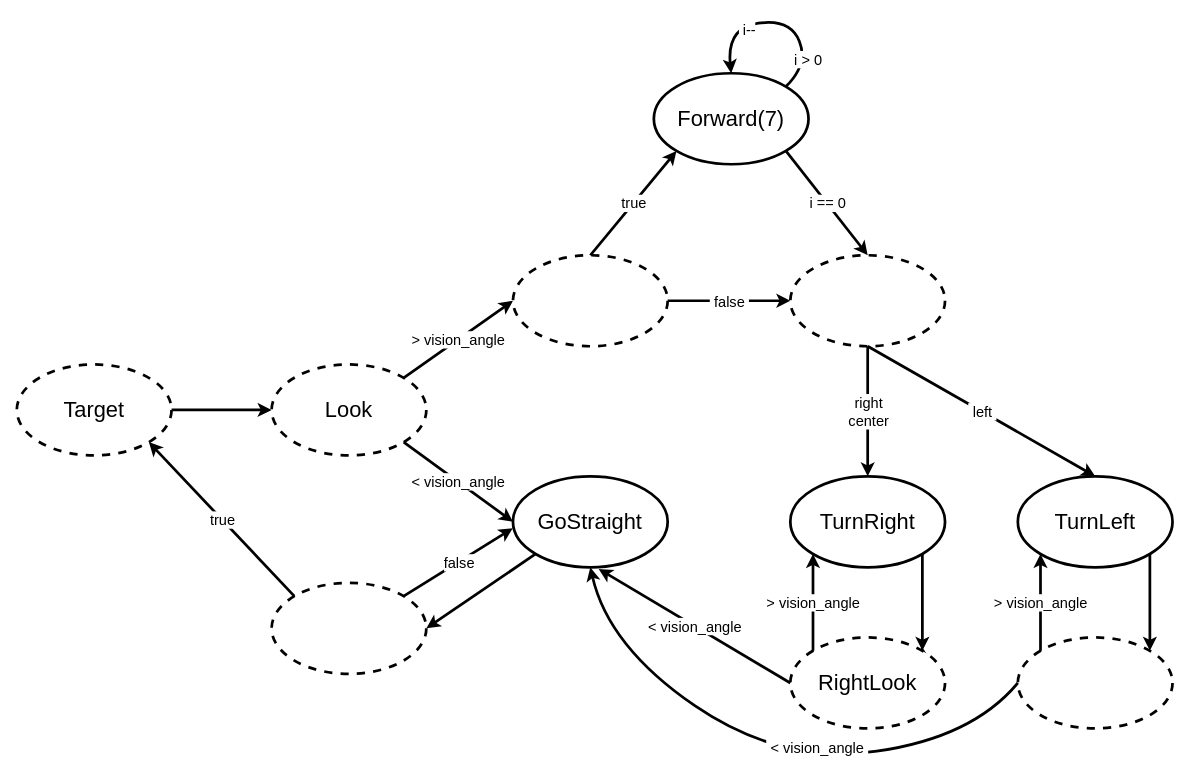
This 1189x777 diagram has some shape labels left out. Here are the shapes that lost their labels. From the top down, the centre of each, then its label:
At [590,300]: "Spiral".
At [867,300]: "Orient".
At [348,628]: "Reach".
At [1094,682]: "LeftLook".
